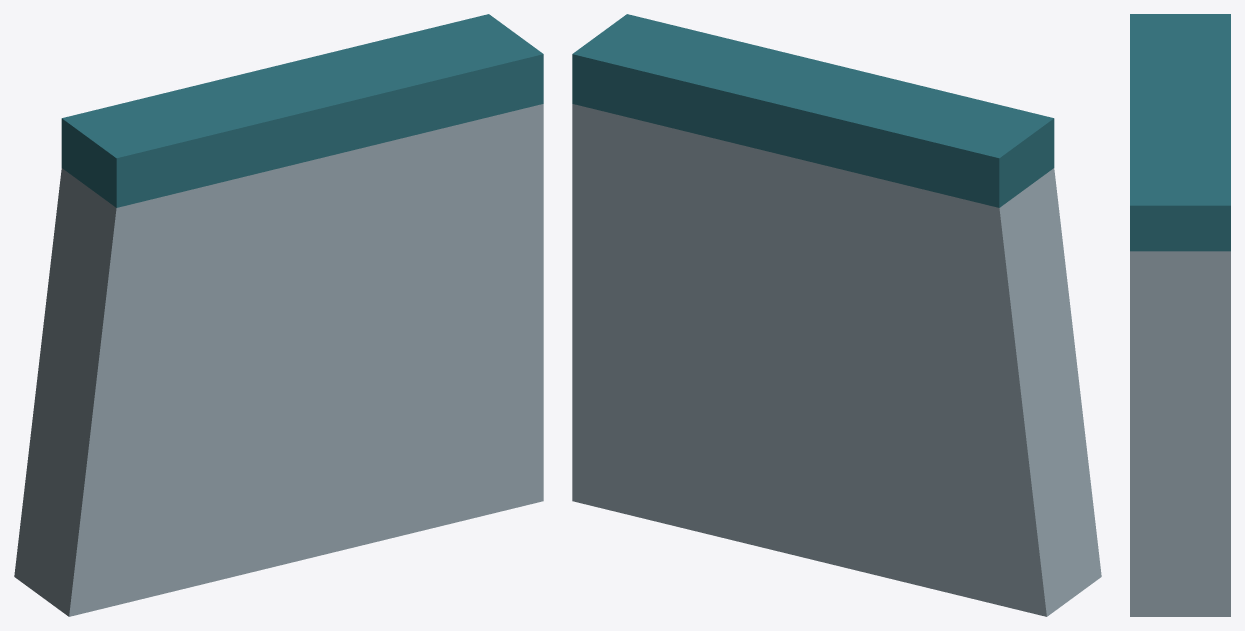
Rendered from Lv2Obsticle4Right.fbx.
The picture shows the model from 3 angles, left to right: view 1: azimuth 30°, elevation 25°; view 2: azimuth 150°, elevation 25°; view 3: azimuth 270°, elevation 25°; orthographic projection. The views are drawn at different scales.
Parts seen in each view (by area): view 1: Lv2Obsticle4Right; view 2: Lv2Obsticle4Right; view 3: Lv2Obsticle4Right.
Boxes of the visible parts, x1=… form: Lv2Obsticle4Right: x1=14, y1=14, x2=543, y2=616; Lv2Obsticle4Right: x1=572, y1=14, x2=1101, y2=616; Lv2Obsticle4Right: x1=1130, y1=14, x2=1230, y2=616.
Bounding box in the file's own units: 2000 × 1800 × 400.
